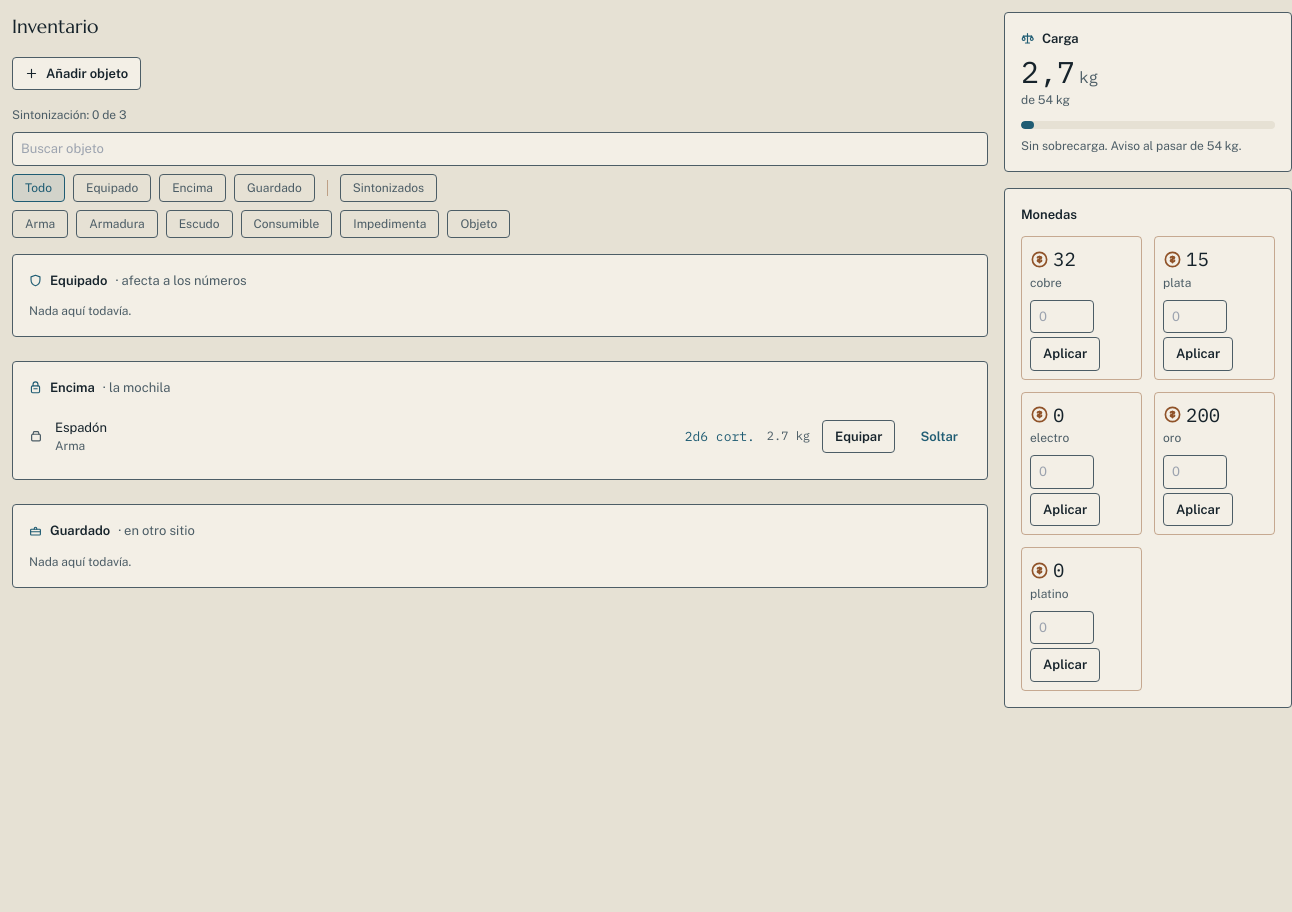
Scenario: pelear con dos armas (paso 1, tarea 11) › un arma a dos manos no ofrece la izquierda, y DICE por qué
Click the button "Equipar": (859, 436) [822,420,895,453]
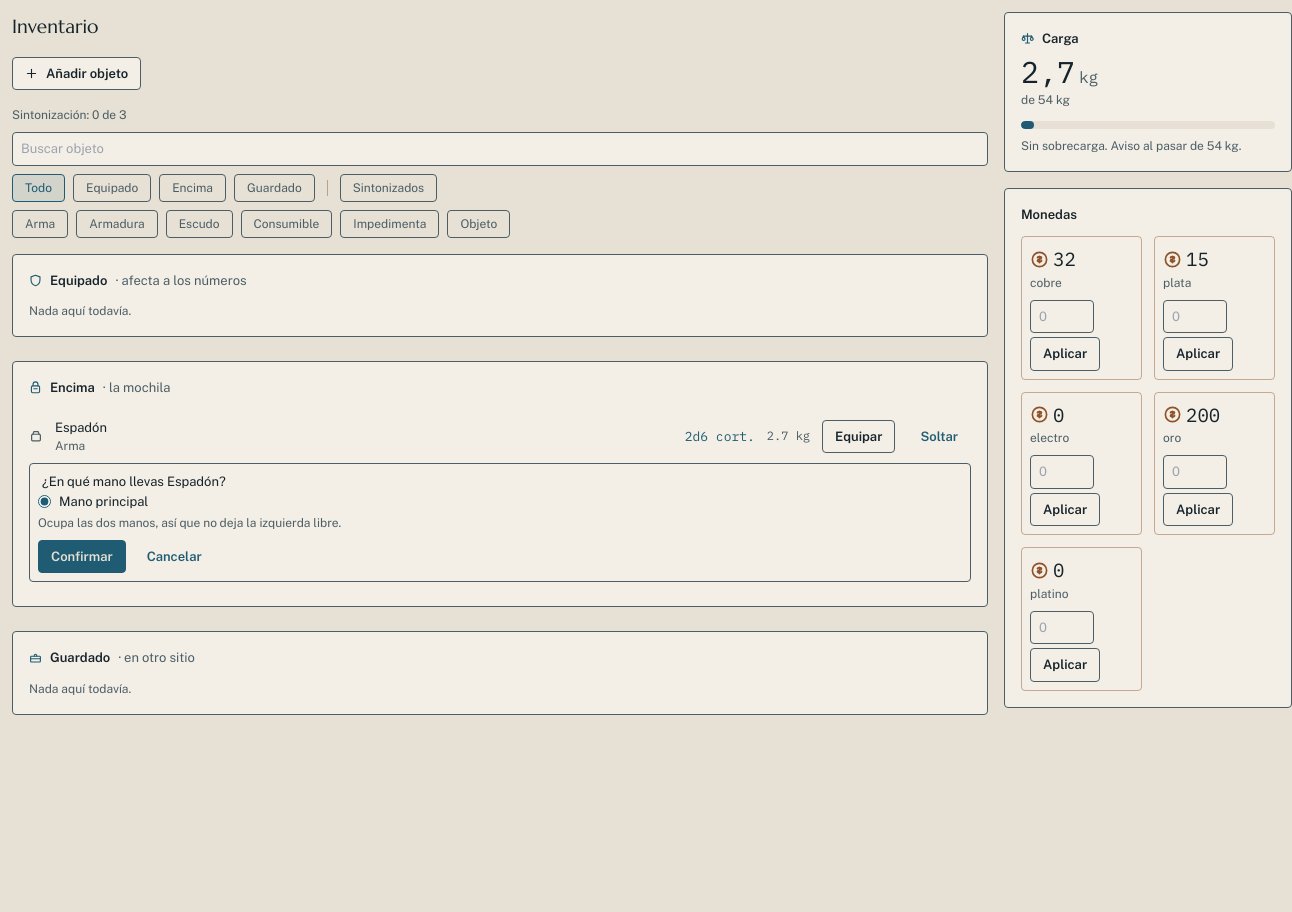
Expected: the text "Ocupa las dos manos, así que no deja la izquierda libre." is shown, [38,516,341,530]
